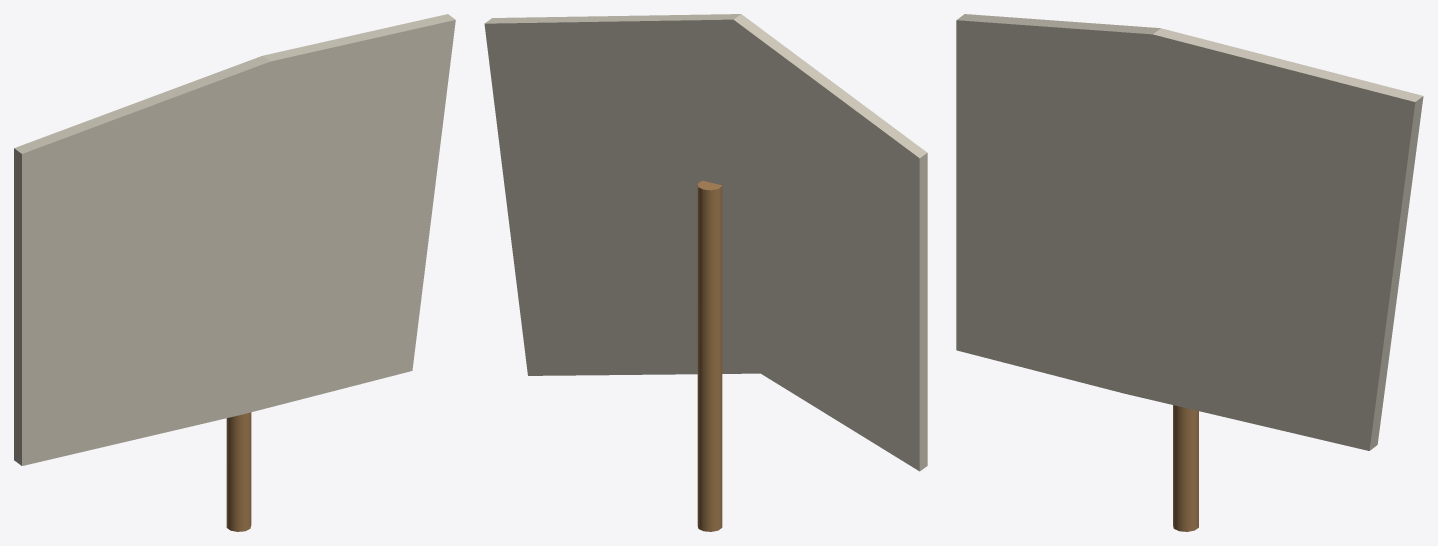
File: umbrella.glb
3 views of the same model, side by side, from view 1: azimuth 30°, elevation 25°; view 2: azimuth 150°, elevation 25°; view 3: azimuth 330°, elevation 25° (orthographic). The views are drawn at different scales.
Parts seen in each view (by area): view 1: umbrella; view 2: umbrella; view 3: umbrella.
Boxes of the visible parts, x1=… form: umbrella: x1=14, y1=14, x2=455, y2=531; umbrella: x1=484, y1=14, x2=927, y2=531; umbrella: x1=956, y1=14, x2=1423, y2=531.
Size of the model in its own units: 0.3601 by 0.3871 by 0.0562.
